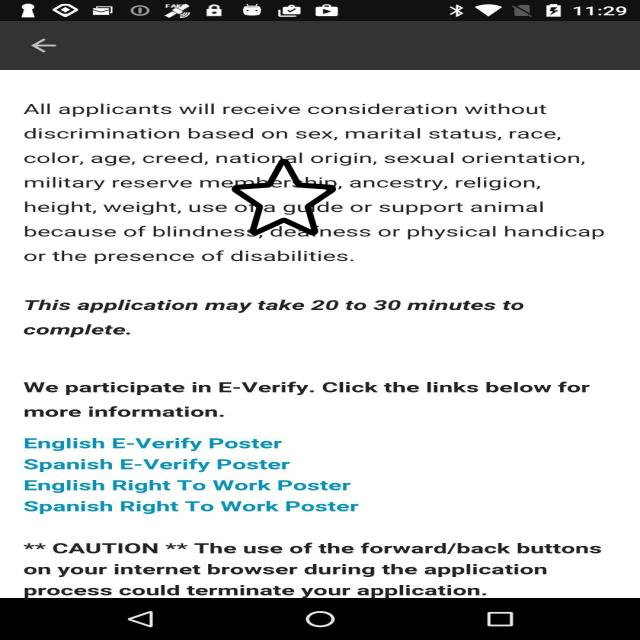forced continuity: (232, 157, 336, 237)
